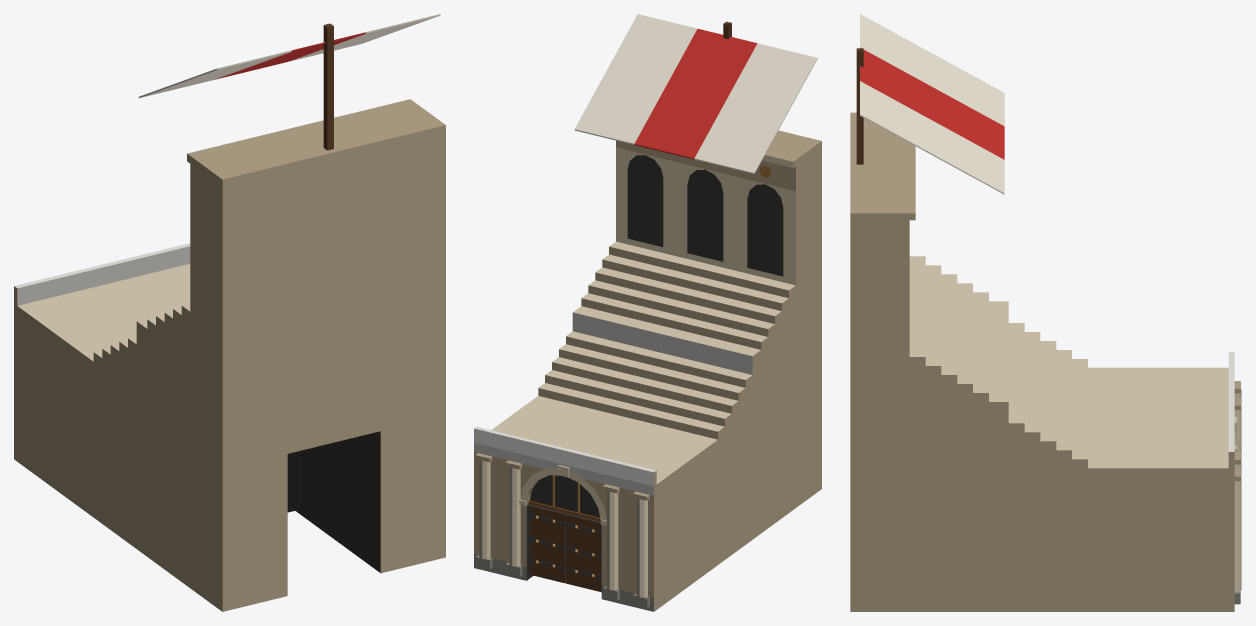
Rendered from SM_ColGate.fbx.
3 renders of one model, left to right at view 1: azimuth 30°, elevation 25°; view 2: azimuth 150°, elevation 25°; view 3: azimuth 270°, elevation 25°, orthographic. The views are drawn at different scales.
Parts seen in each view (by area): view 1: SM_ColGate_Frame; view 2: SM_ColGate_Frame, DoorL, DoorR; view 3: SM_ColGate_Frame.
Part boxes in pixels (left/top/right/bottom): SM_ColGate_Frame: left=14, top=14, right=445, bottom=611; SM_ColGate_Frame: left=474, top=14, right=821, bottom=611; DoorL: left=528, top=504, right=566, bottom=583; DoorR: left=566, top=514, right=601, bottom=592; SM_ColGate_Frame: left=850, top=14, right=1241, bottom=611.
Bounding box in the file's own units: 12 × 19.76 × 28.5.
